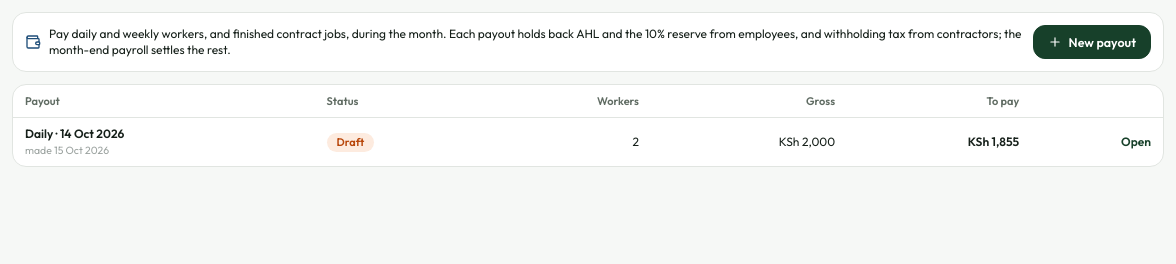
it: reviewing a draft › missing payment details block approval until fixed or removed
The image size is (1176, 264).
Later steps or results of the test are not shown.
Click the button with aria-label "Open Daily payout".
click(1136, 142)  # box [1121,134,1151,150]
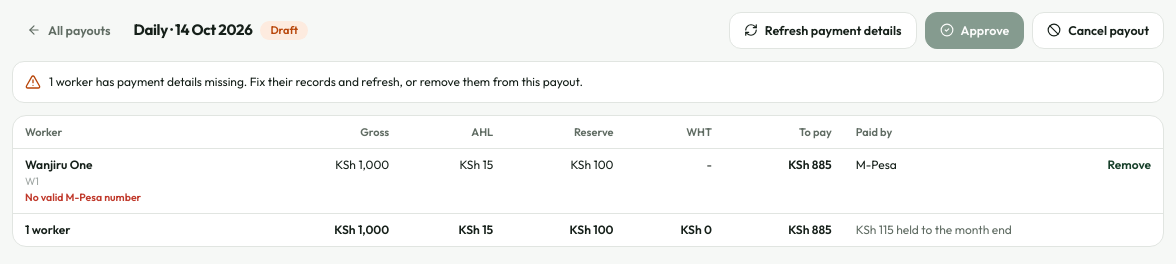
Result: the text "No valid M-Pesa number" is shown at [25,190,141,204]
Result: the button "Approve" is disabled at [925,12,1024,49]
